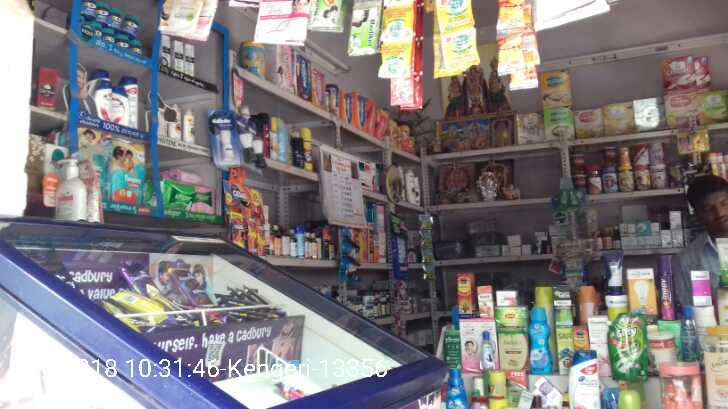vicks: (83, 1, 142, 56)
